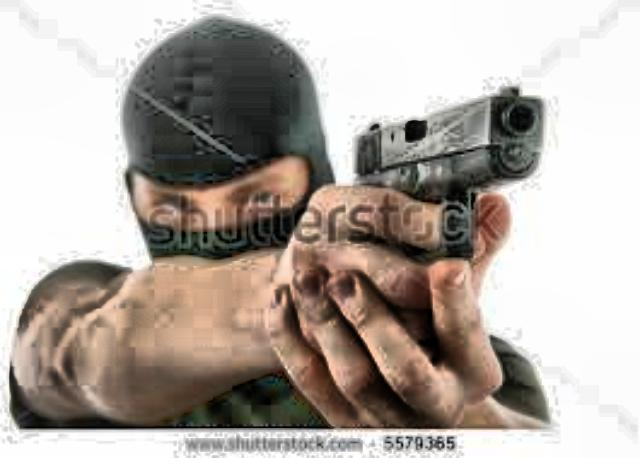pistol: (348, 87, 540, 265)
